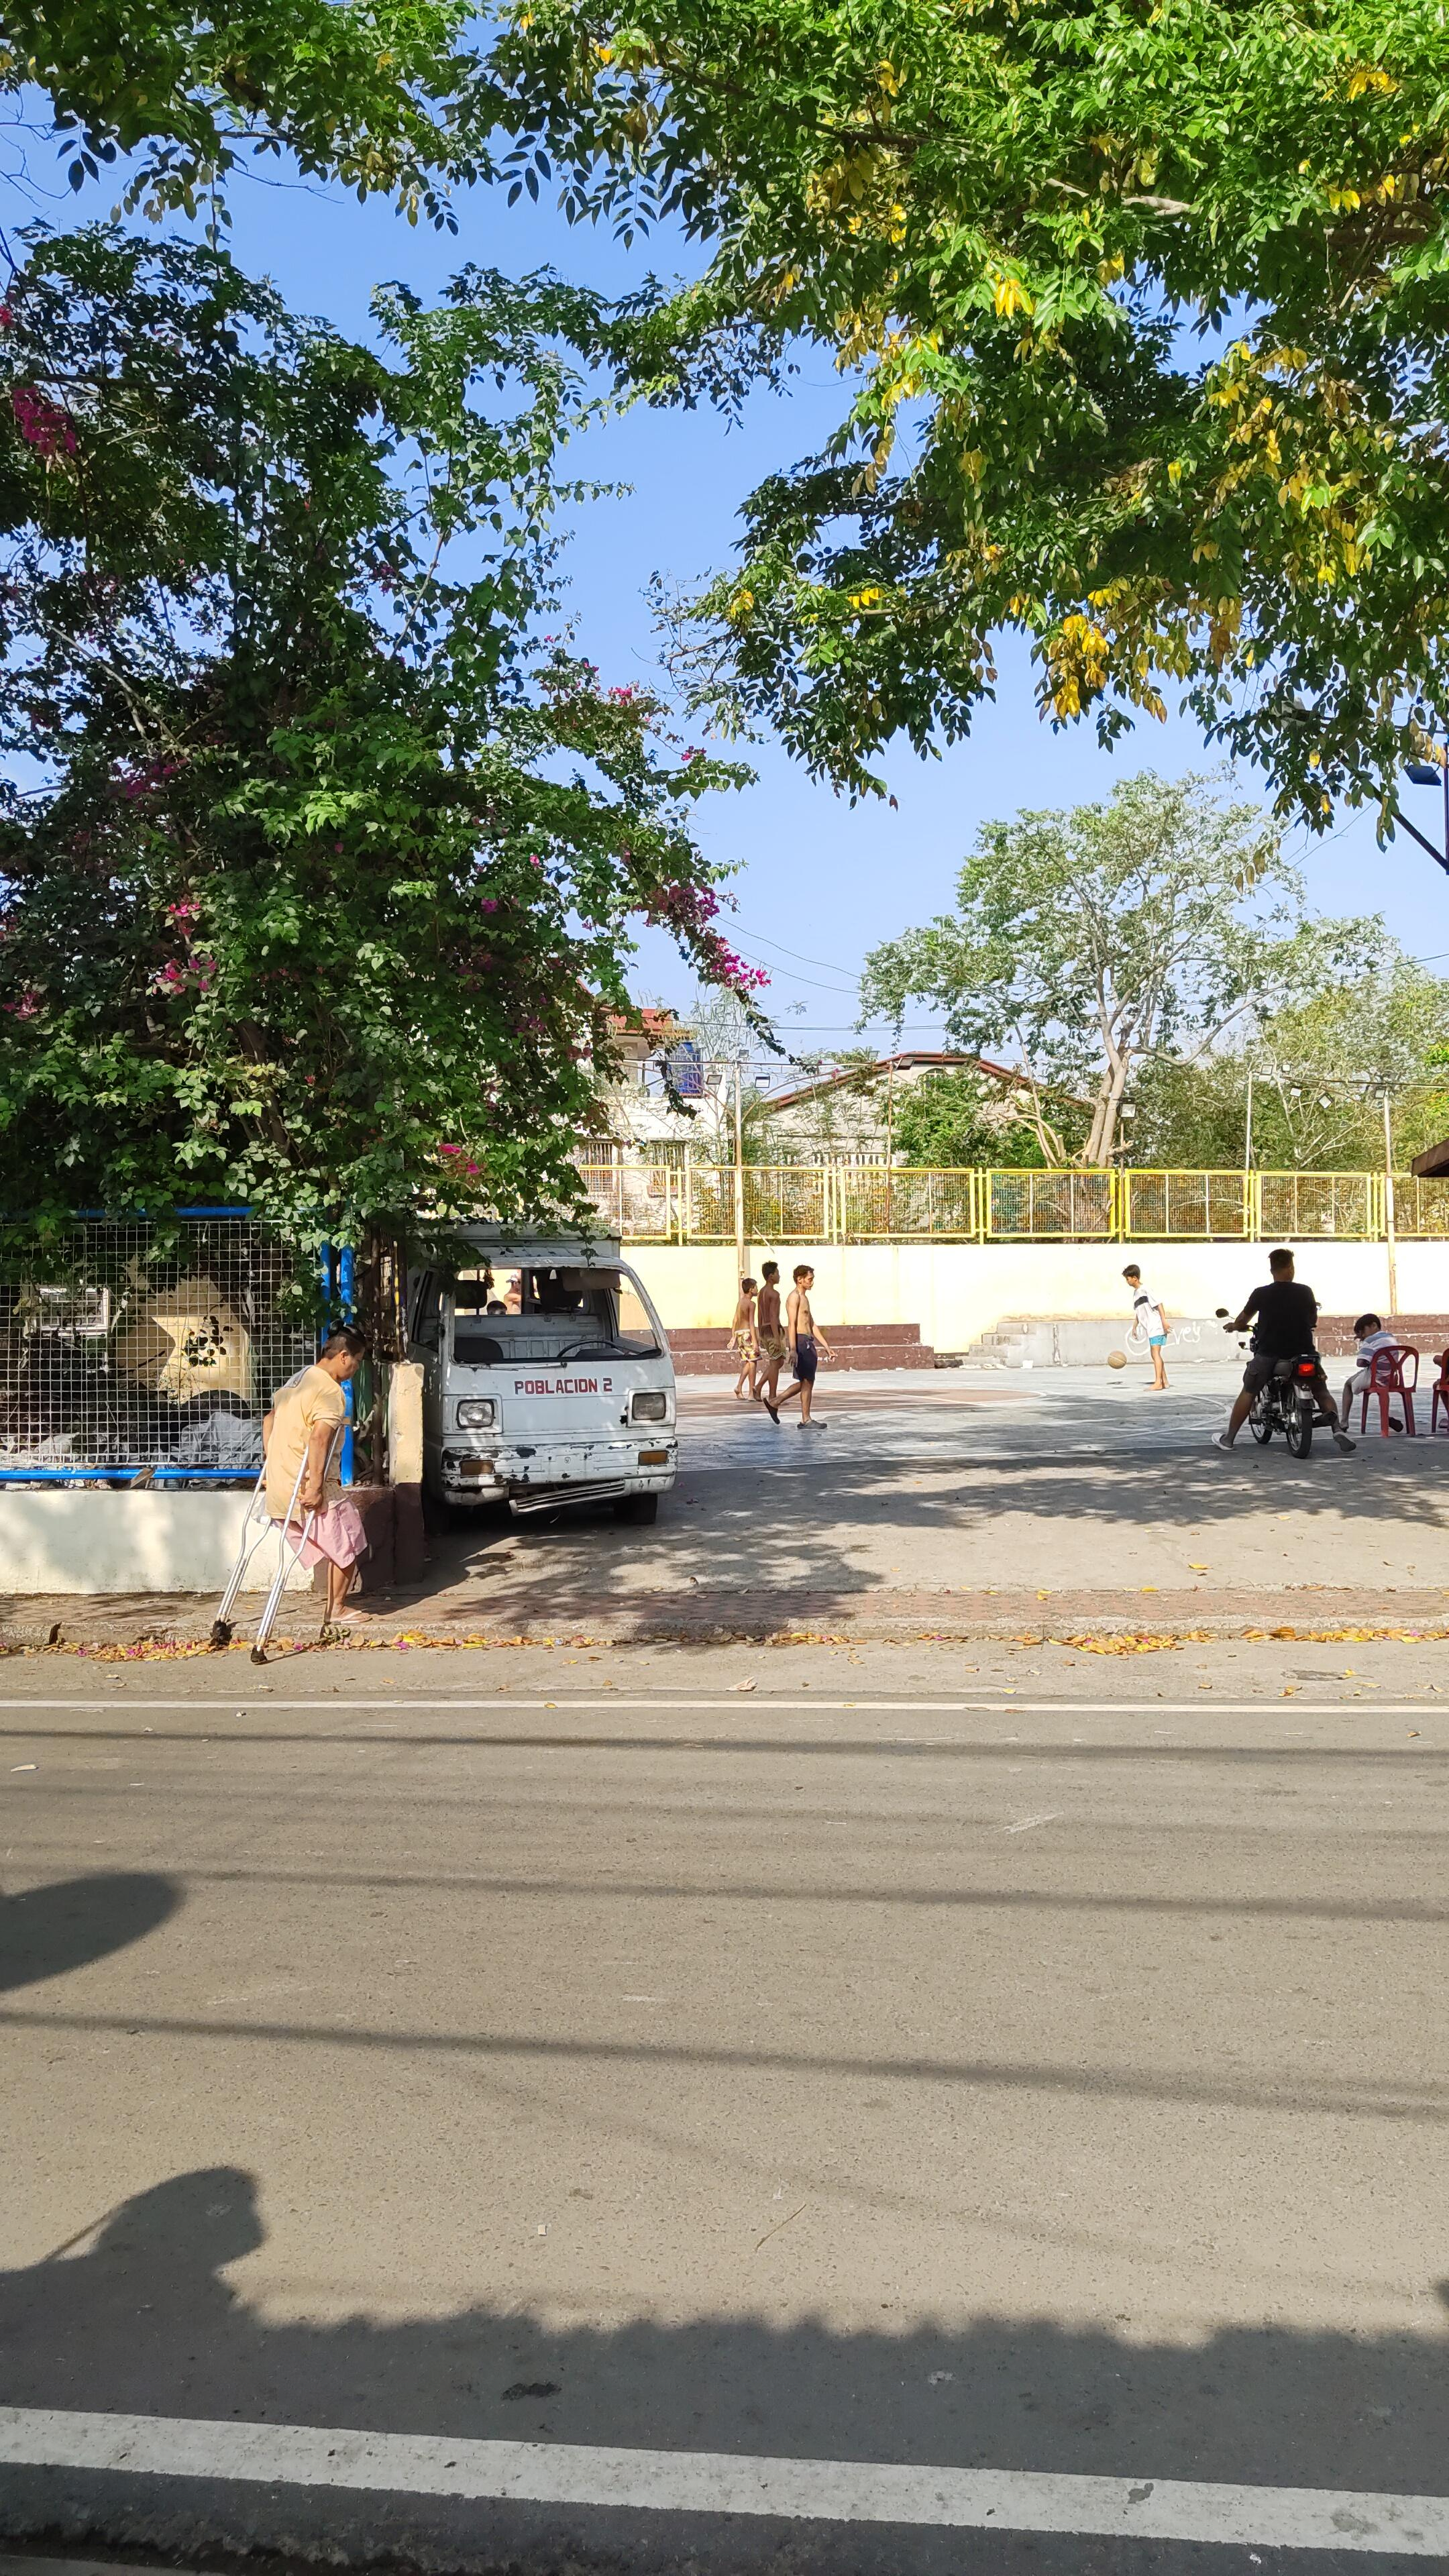crutches: (203, 1309, 384, 1665)
